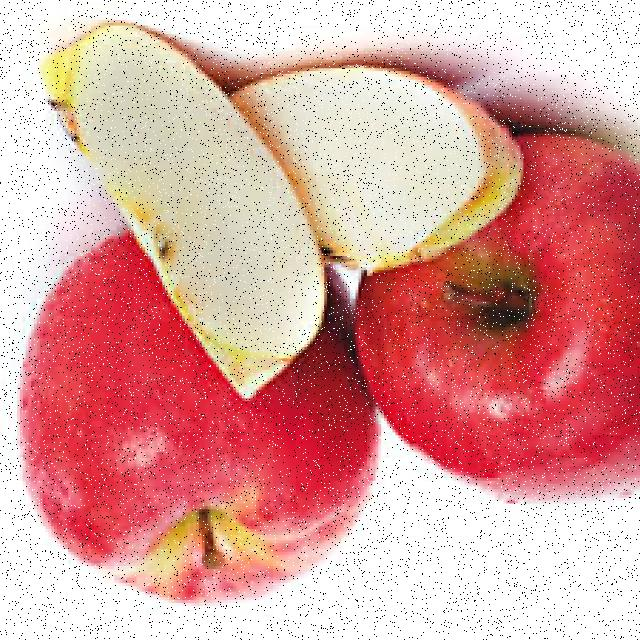Apple: (23, 274, 378, 601), (355, 140, 640, 509), (49, 32, 321, 392), (256, 68, 526, 266)
